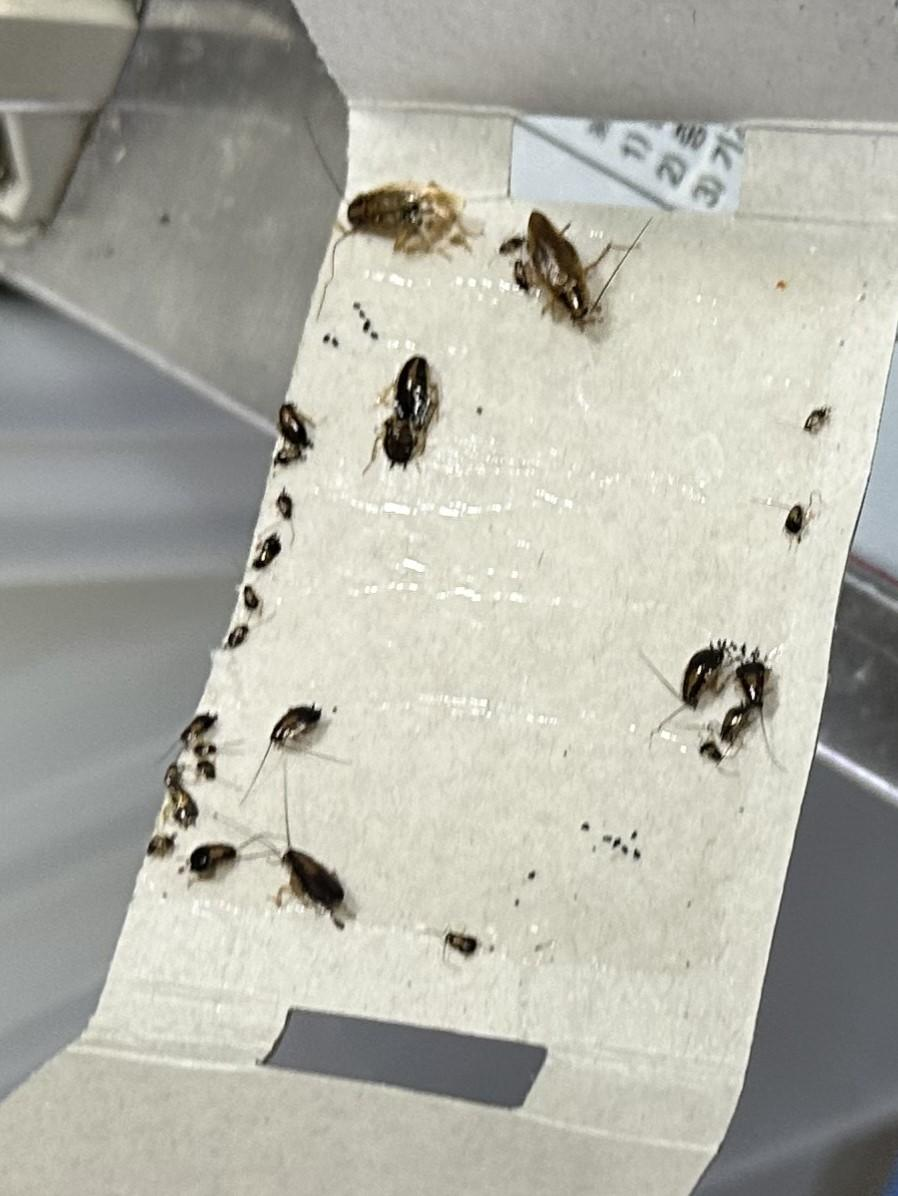cockroach: (240, 143, 492, 317), (475, 163, 648, 401), (234, 772, 397, 969), (232, 684, 353, 837), (715, 641, 826, 792), (610, 608, 734, 736), (340, 405, 466, 489), (768, 385, 898, 466), (355, 333, 462, 425), (182, 831, 296, 908), (260, 396, 344, 464), (248, 475, 319, 550), (750, 493, 832, 554), (430, 914, 500, 984), (156, 793, 242, 839), (118, 823, 190, 874), (237, 436, 329, 475), (229, 535, 308, 579), (209, 615, 275, 656), (181, 752, 241, 797), (229, 577, 284, 624), (148, 750, 187, 792), (181, 710, 226, 746)
